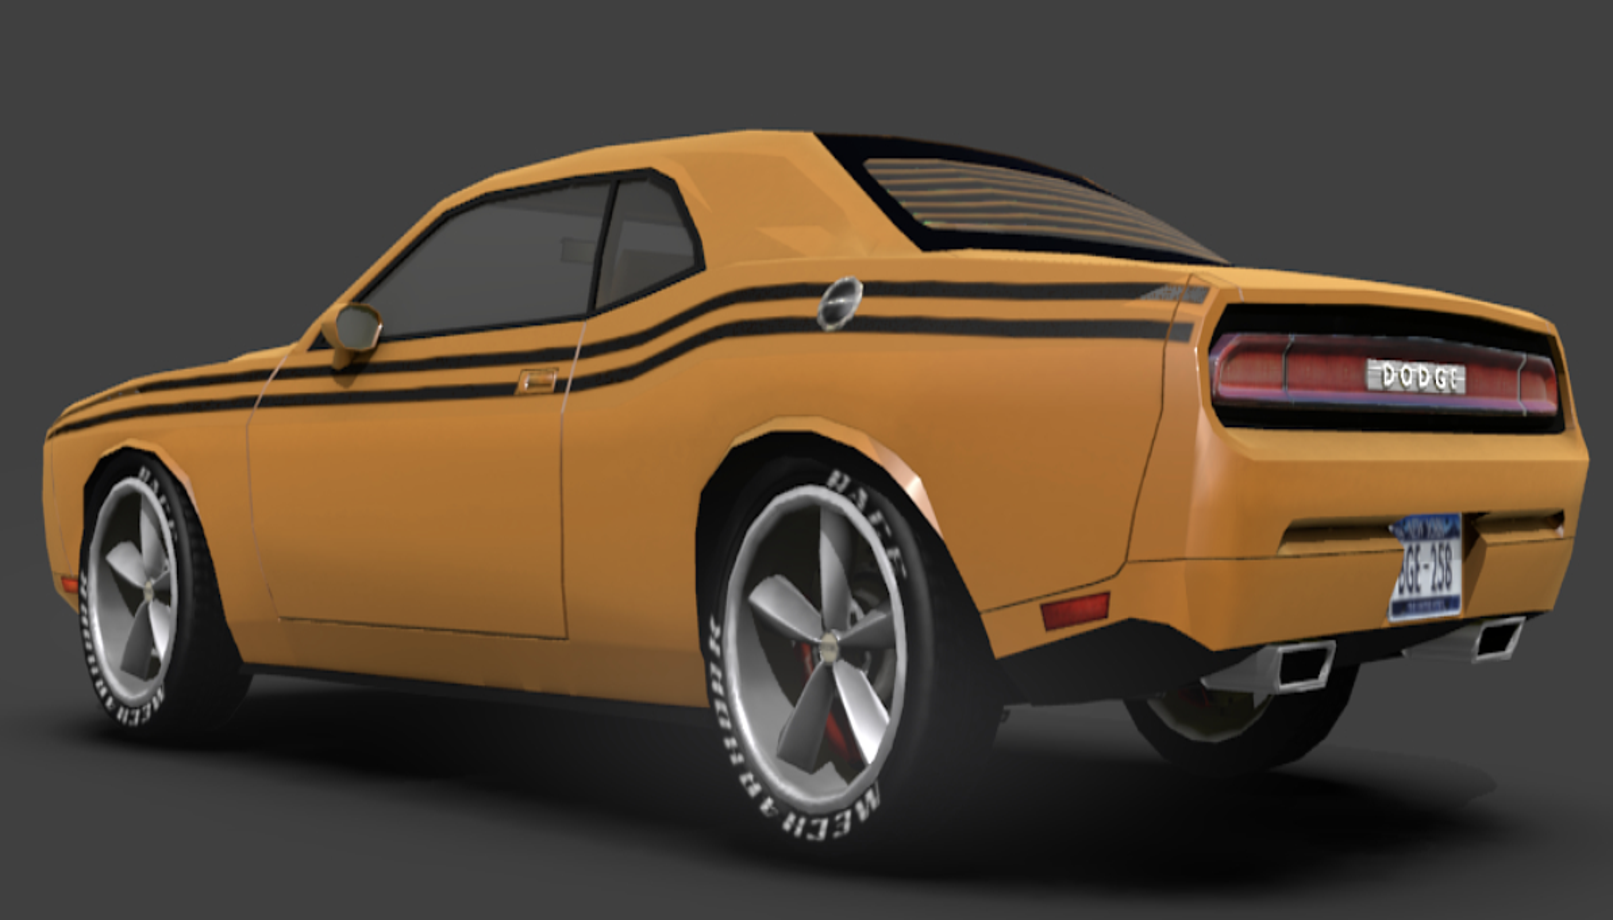hatch: (814, 270, 866, 338)
